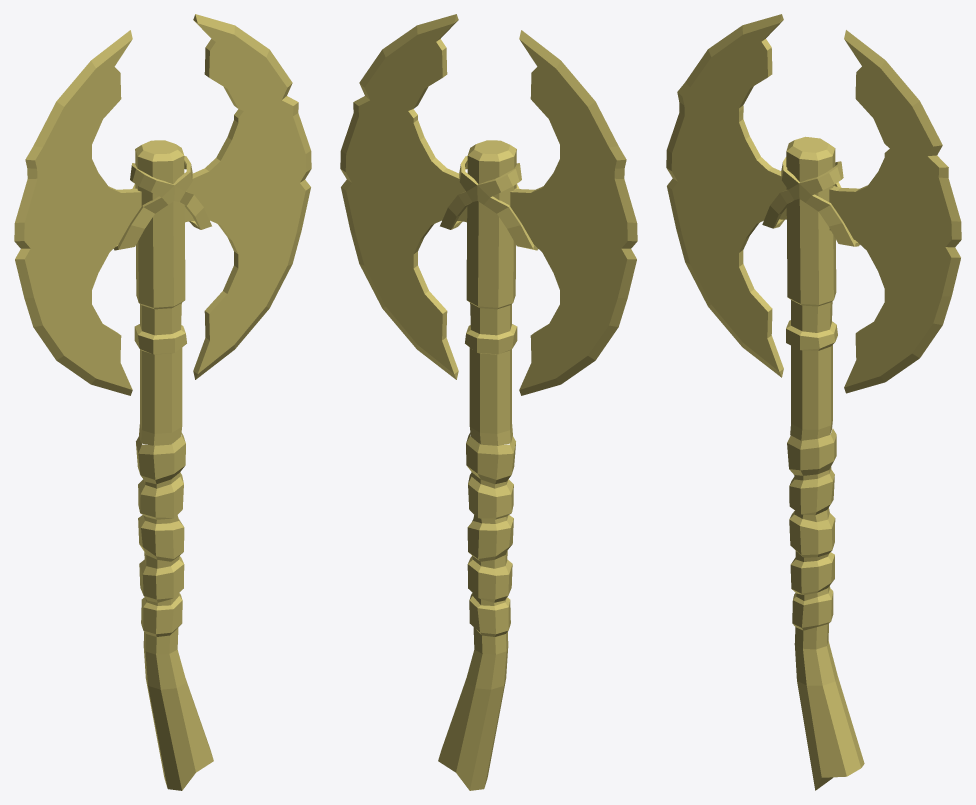
The model's file is hachadobleoro.glb.
3 views of the same model, side by side, from view 1: azimuth 30°, elevation 25°; view 2: azimuth 150°, elevation 25°; view 3: azimuth 330°, elevation 25° (orthographic).
Visible parts, largest first — view 1: Axe_Double_Golden_Cylinder.023; view 2: Axe_Double_Golden_Cylinder.023; view 3: Axe_Double_Golden_Cylinder.023.
Part boxes in pixels (x1,y1,x2,y2): Axe_Double_Golden_Cylinder.023: (14, 14, 311, 790); Axe_Double_Golden_Cylinder.023: (340, 14, 637, 790); Axe_Double_Golden_Cylinder.023: (666, 14, 961, 790).
Size of the model in its own units: 0.8712 by 2.15 by 0.1355.
